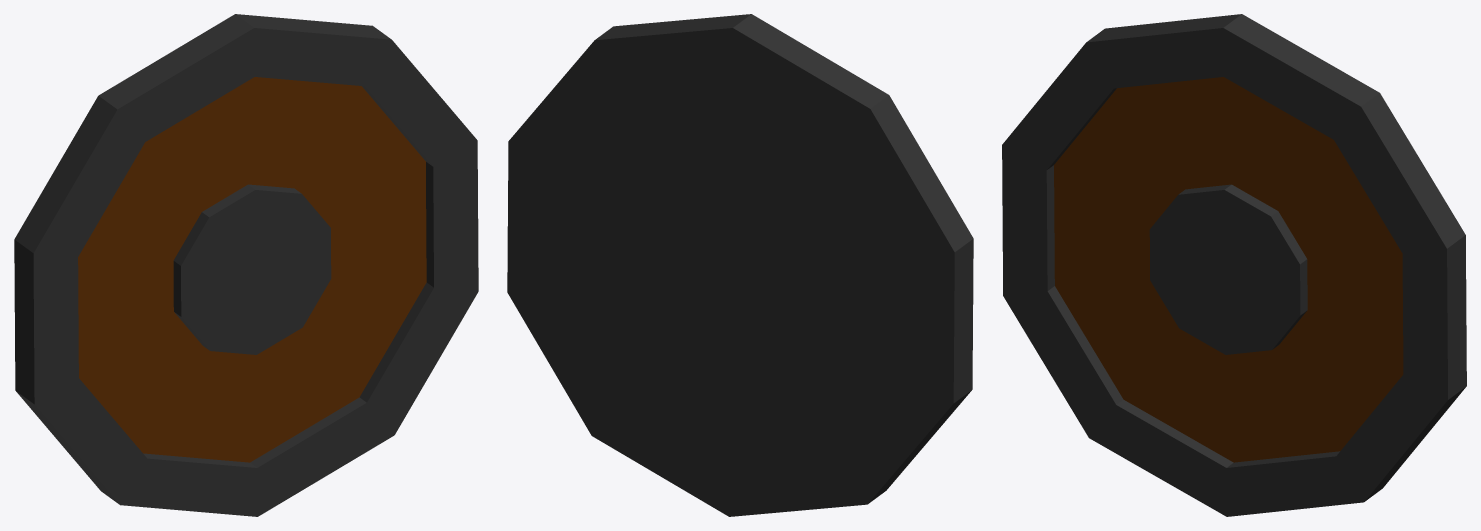
The model's file is skeleton_shield.glb.
The picture shows the model from 3 angles, left to right: view 1: azimuth 30°, elevation 25°; view 2: azimuth 150°, elevation 25°; view 3: azimuth 330°, elevation 25°; orthographic projection.
Visible parts, largest first — view 1: Circle; view 2: Circle; view 3: Circle.
Part boxes in pixels (bbox=[...]): Circle: bbox=[14, 14, 478, 516]; Circle: bbox=[507, 14, 973, 516]; Circle: bbox=[1002, 14, 1466, 516].
Bounding box in the file's own units: 0.6473 × 0.6788 × 0.0509.
